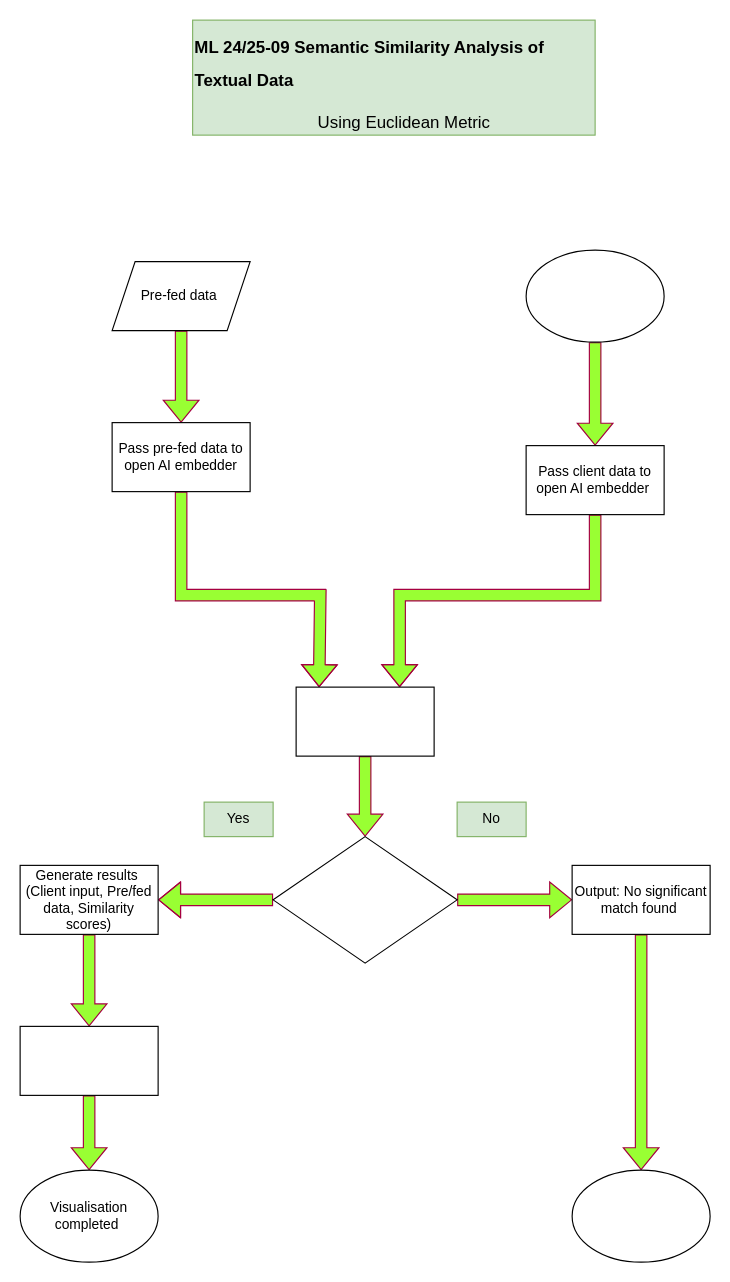
Some shapes in this 730 by 1282 pixel diagram are drawn without their labels. Here are the shapes that lost their labels. From the top down, the box of each, then its label:
(525, 249, 664, 342): Client input data
(295, 686, 434, 756): Compute similarity Euclidean metrics
(272, 835, 457, 963): Similarity > Threshold
(19, 1025, 158, 1095): Export and Visualise Scores
(571, 1169, 710, 1262): End
